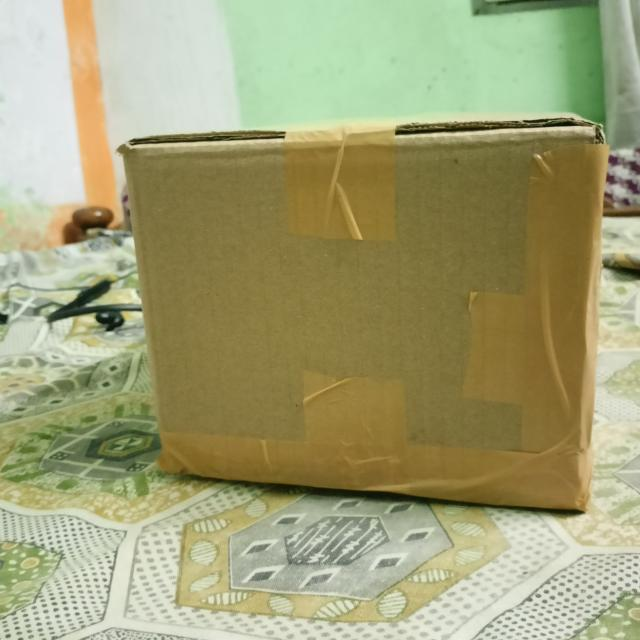box: (126, 132, 597, 517)
